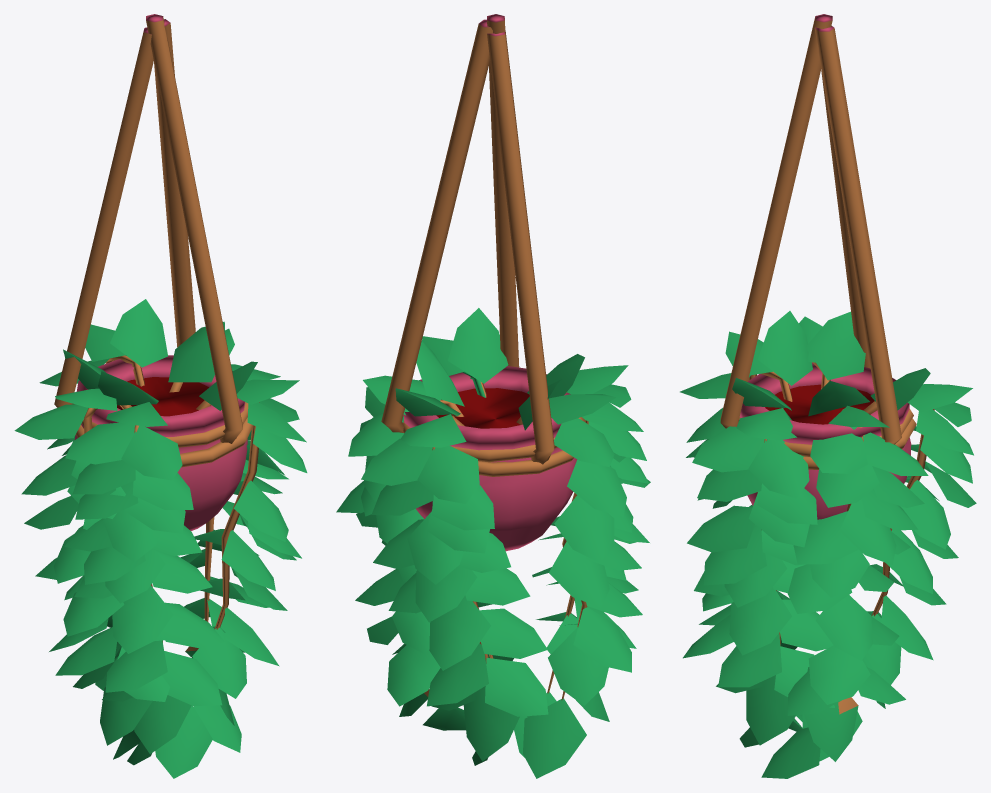
Rendered from hanging_plant.fbx.
3 renders of one model, left to right at view 1: azimuth 30°, elevation 25°; view 2: azimuth 150°, elevation 25°; view 3: azimuth 270°, elevation 25°, orthographic. The views are drawn at different scales.
Parts seen in each view (by area): view 1: Hanging_plant; view 2: Hanging_plant; view 3: Hanging_plant.
Part boxes in pixels (<box>): Hanging_plant: <box>14,14,307,778</box>; Hanging_plant: <box>336,14,650,778</box>; Hanging_plant: <box>680,14,976,778</box>.
Size of the model in its own units: 68.04 by 182 by 66.67.
1 material, 1 textured.
